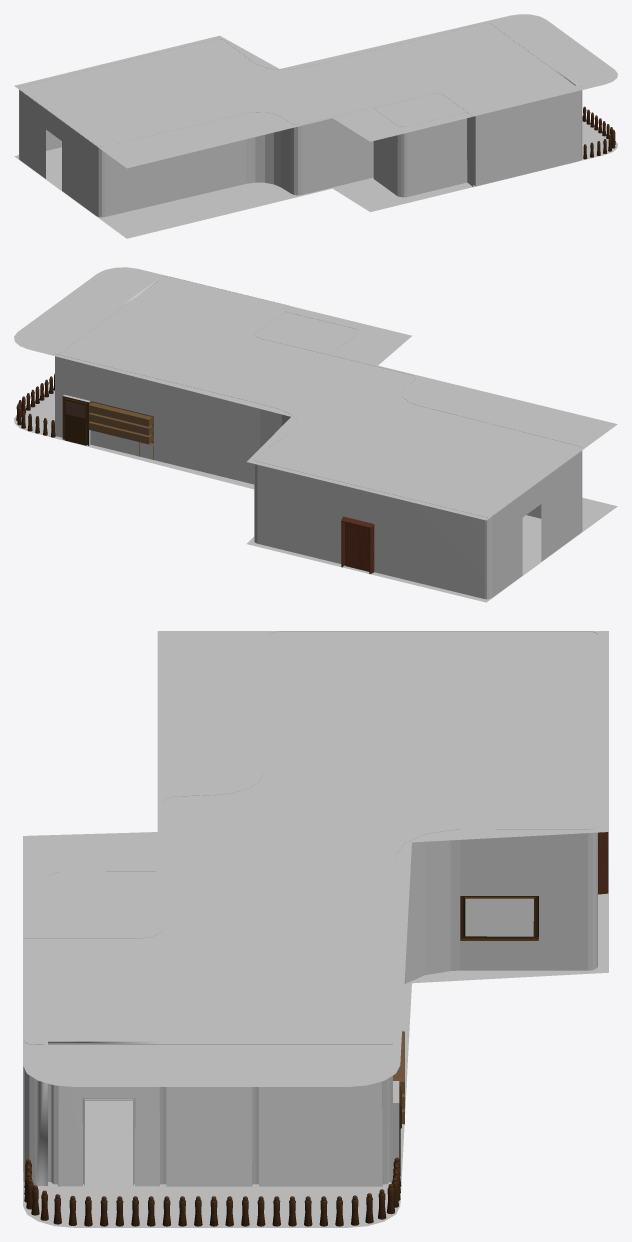
The model's file is Hotel2uvsGiradas.fbx.
The picture shows the model from 3 angles, top to bottom: view 1: azimuth 30°, elevation 25°; view 2: azimuth 150°, elevation 25°; view 3: azimuth 270°, elevation 25°; orthographic projection. The views are drawn at different scales.
Parts seen in each view (by area): view 1: techo, pared.006, suelo; view 2: techo, pared.006, suelo, puerta; view 3: techo, pared.006, pared.008, suelo, pared.007.
Boxes of the visible parts, x1,y1,x2,y2 form: techo: (14, 14, 617, 168); pared.006: (19, 22, 582, 217); suelo: (14, 117, 617, 238); techo: (14, 267, 617, 520); pared.006: (55, 276, 582, 599); suelo: (14, 388, 617, 602); puerta: (341, 516, 374, 573); techo: (23, 631, 608, 1086); pared.006: (23, 631, 597, 1186); pared.008: (58, 1081, 382, 1186); suelo: (23, 832, 608, 1227); pared.007: (465, 898, 533, 936).
Bounding box in the file's own units: 2455 × 356 × 1333.
